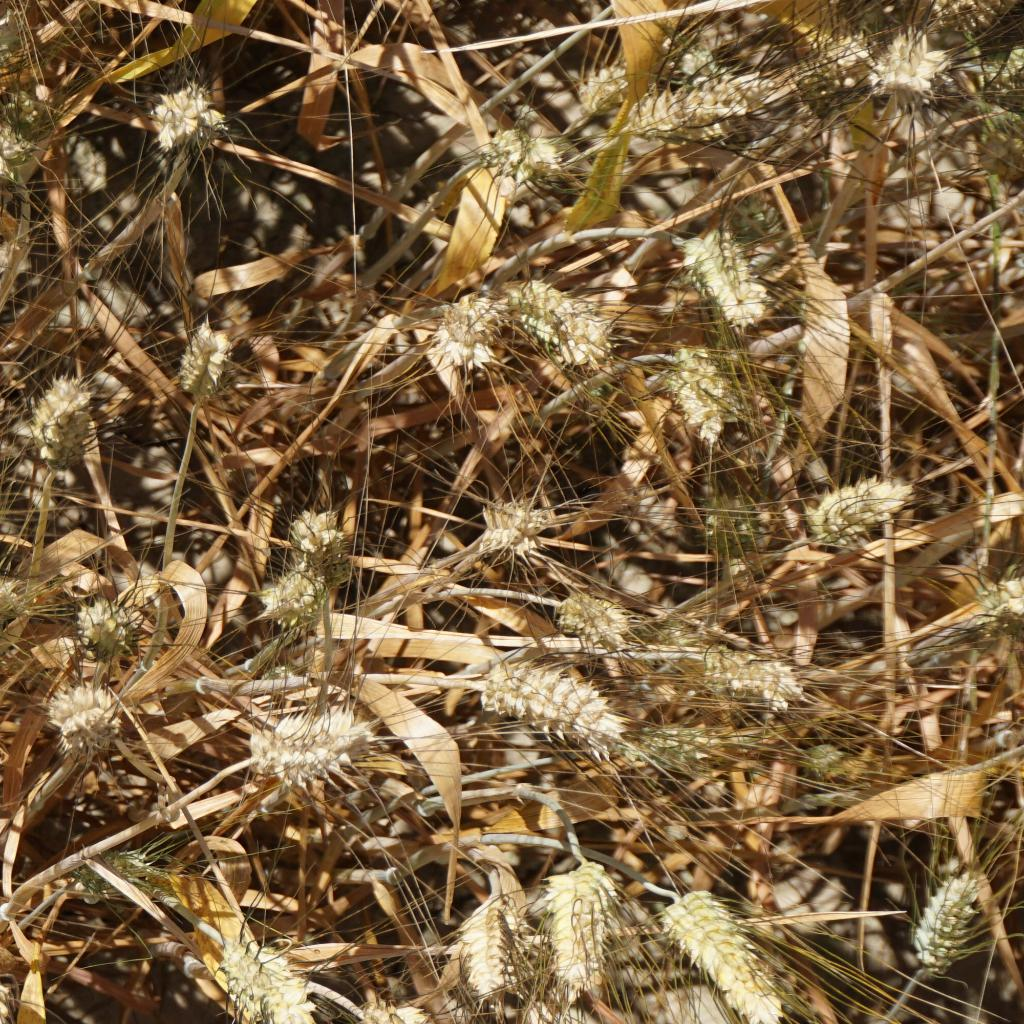0-0: (659, 876, 783, 1019), (495, 259, 629, 381), (472, 655, 617, 751), (251, 702, 379, 804), (539, 856, 618, 1001), (797, 471, 924, 550), (627, 69, 759, 137), (23, 366, 105, 475), (211, 934, 310, 1024), (285, 495, 361, 599), (659, 345, 743, 439), (688, 473, 772, 567), (648, 719, 762, 787), (679, 240, 769, 324), (699, 640, 810, 708), (482, 118, 567, 196), (472, 495, 557, 569), (426, 281, 499, 367), (464, 887, 519, 1001), (548, 582, 636, 653), (42, 678, 124, 753), (169, 320, 239, 405), (140, 83, 220, 155), (797, 28, 880, 95), (912, 868, 972, 958), (80, 836, 156, 905), (790, 739, 877, 796), (870, 41, 944, 108), (75, 581, 149, 645), (569, 52, 631, 124), (248, 568, 325, 623), (0, 112, 58, 183), (979, 88, 1024, 173), (674, 36, 748, 83), (351, 989, 449, 1024), (924, 0, 995, 47), (0, 524, 27, 607), (0, 945, 22, 1024), (991, 568, 1024, 620), (0, 4, 15, 91)
